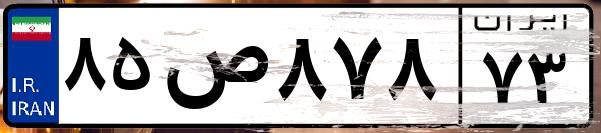3: (525, 38, 570, 115)
5: (110, 28, 158, 98)
7: (330, 28, 385, 110), (475, 38, 525, 113)
8: (270, 28, 330, 110), (385, 28, 445, 110), (57, 26, 110, 100)
ص: (158, 20, 270, 120)
